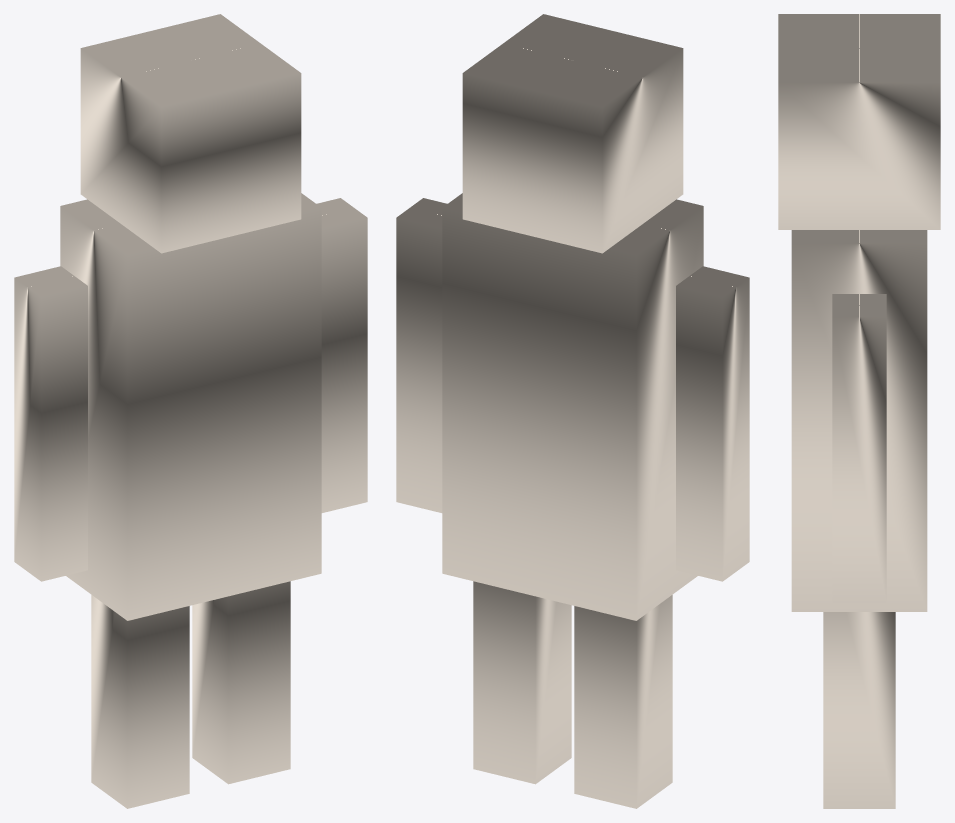
File: UniversalBaseCharacters.glb
3 views of the same model, side by side, from view 1: azimuth 30°, elevation 25°; view 2: azimuth 150°, elevation 25°; view 3: azimuth 270°, elevation 25° (orthographic).
Parts seen in each view (by area): view 1: UniversalBaseCharacters; view 2: UniversalBaseCharacters; view 3: UniversalBaseCharacters.
Part boxes in pixels (bbox=[...]): UniversalBaseCharacters: bbox=[14, 14, 367, 808]; UniversalBaseCharacters: bbox=[396, 14, 749, 808]; UniversalBaseCharacters: bbox=[778, 14, 940, 808].
Size of the model in its own units: 0.84 by 1.76 by 0.36.
